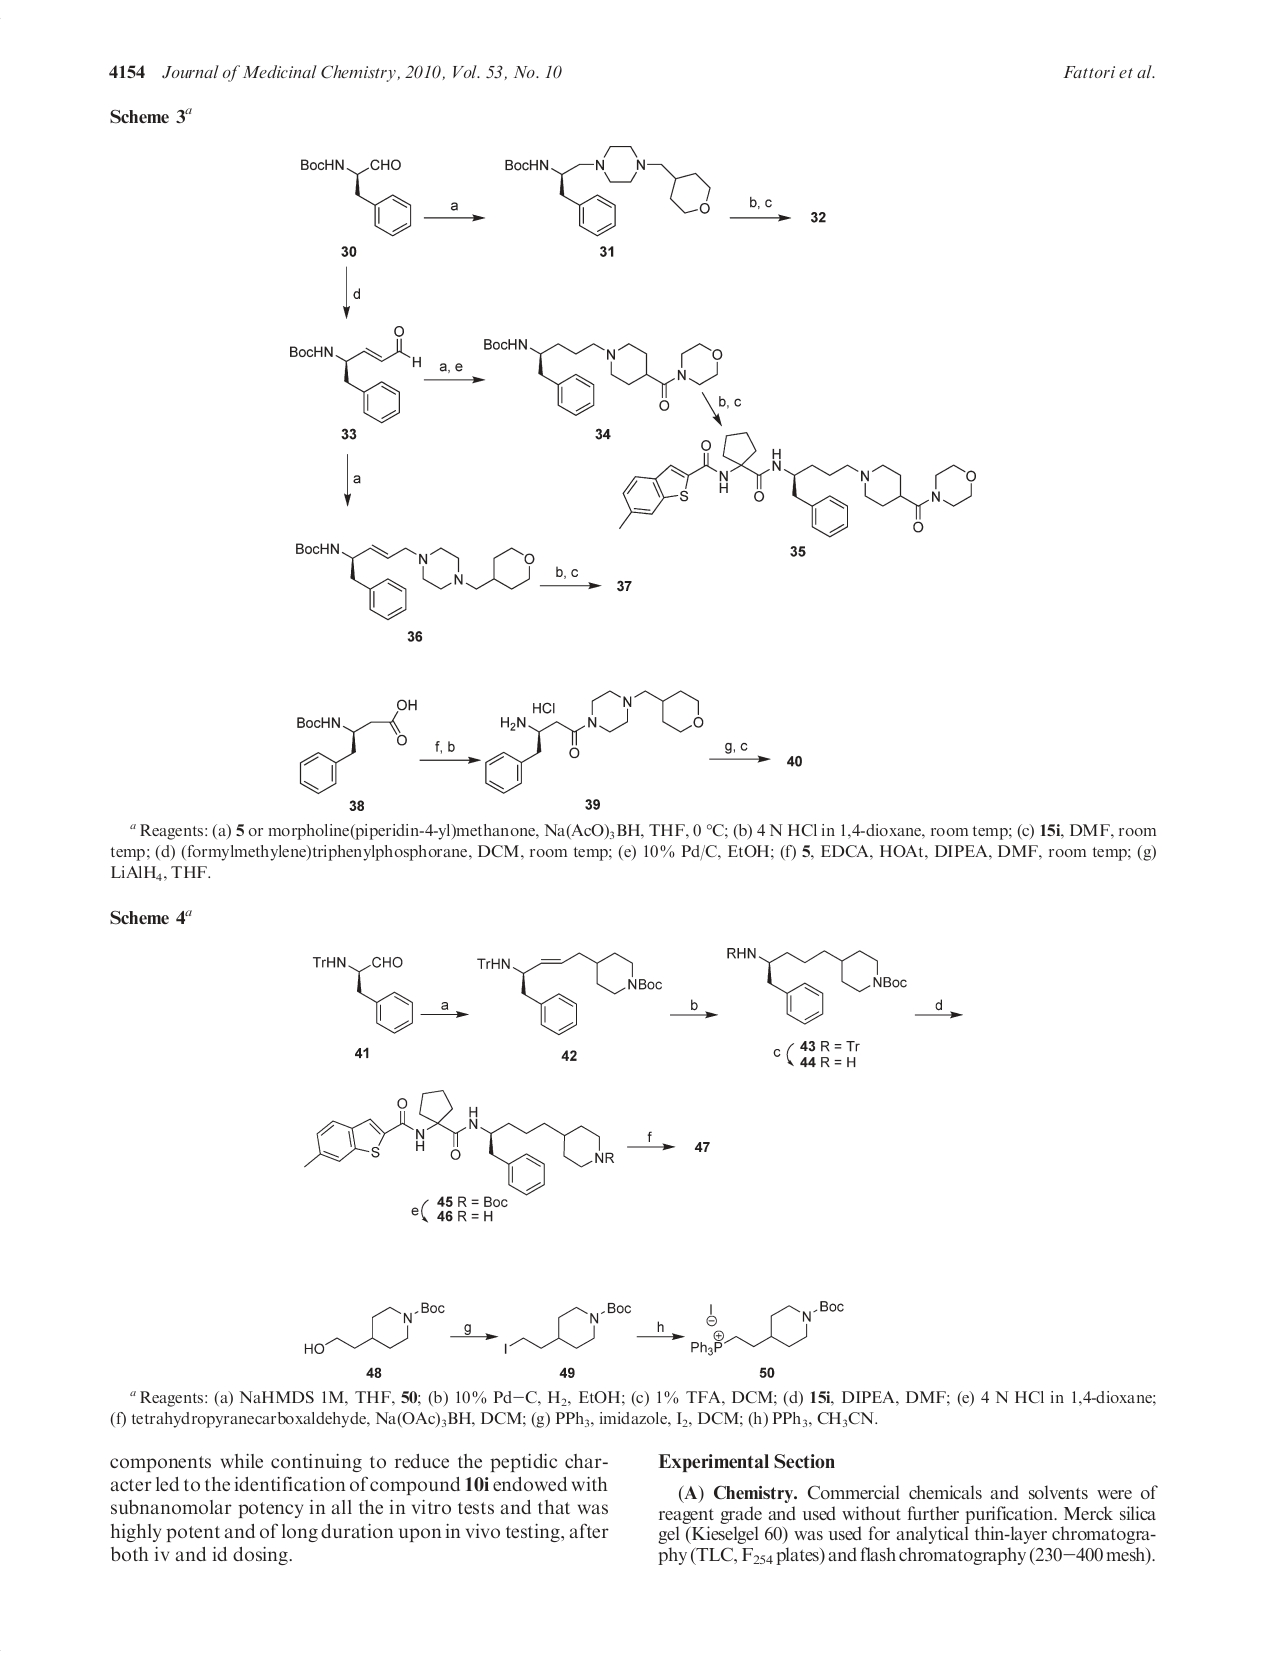exist_molecular: (606, 432, 977, 555), (294, 1077, 616, 1196), (287, 515, 544, 624), (477, 324, 746, 420), (480, 689, 711, 797), (501, 126, 713, 239), (473, 934, 668, 1035), (713, 938, 911, 1025), (283, 317, 428, 427), (278, 689, 423, 797), (294, 146, 422, 241), (301, 1293, 459, 1367), (309, 939, 422, 1039), (688, 1293, 847, 1360), (501, 1298, 640, 1362)
